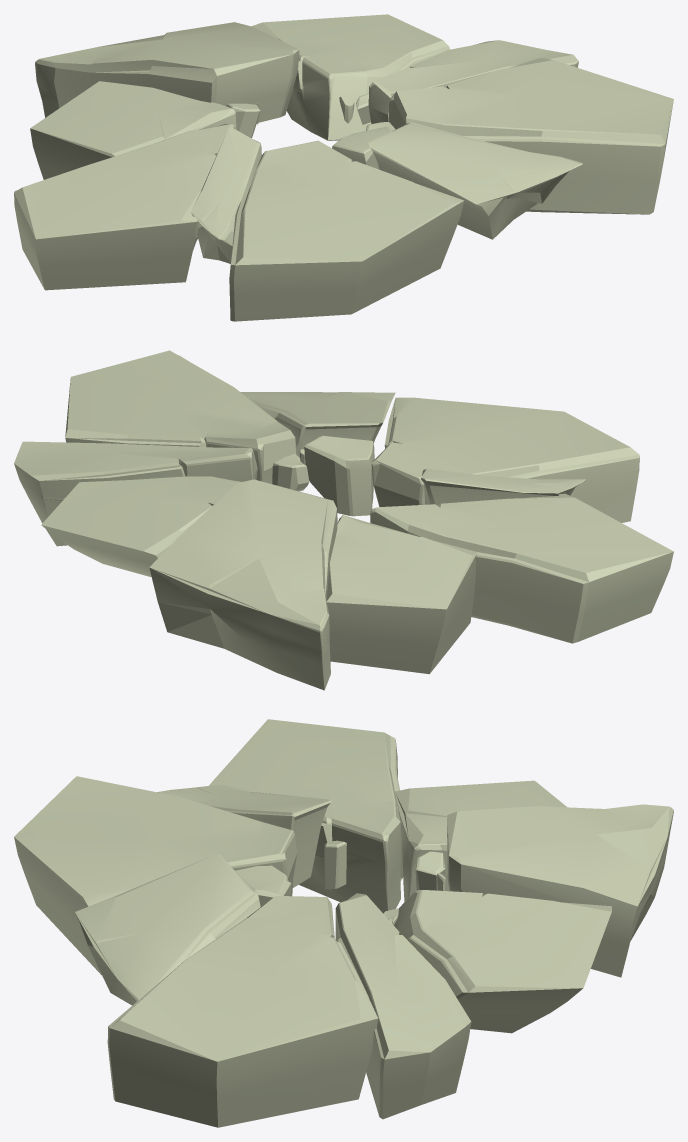
File: Ice_Cracks.FBX
3 renders of one model, top to bottom at view 1: azimuth 30°, elevation 25°; view 2: azimuth 150°, elevation 25°; view 3: azimuth 270°, elevation 25°, orthographic. The views are drawn at different scales.
Parts seen in each view (by area): view 1: Ice_Crack_05, Ice_Crack_07, Ice_Crack_03, Ice_Crack_04, Ice_Crack_09, Ice_Crack_06, Ice_Crack, Ice_Crack_08, Ice_Crack_02, Ica_Frag03, Ica_Frag02; view 2: Ice_Crack_04, Ice_Crack_03, Ice_Crack_05, Ice_Crack, Ice_Crack_07, Ice_Crack_09, Ice_Crack_08, Ice_Crack_06, Ica_Frag03, Ice_Crack_02, Ica_Frag04; view 3: Ice_Crack_07, Ice_Crack_05, Ice_Crack_04, Ice_Crack_09, Ice_Crack_03, Ice_Crack_08, Ice_Crack_06, Ice_Crack, Ice_Crack_02, Ica_Frag03, Ica_Frag01, Ica_Frag02.
Boxes of the visible parts, bbox=[...] form: Ice_Crack_05: bbox=[229, 140, 464, 321]; Ice_Crack_07: bbox=[389, 58, 673, 214]; Ice_Crack_03: bbox=[14, 124, 234, 290]; Ice_Crack_04: bbox=[35, 22, 299, 122]; Ice_Crack_09: bbox=[251, 14, 449, 140]; Ice_Crack_06: bbox=[367, 122, 583, 239]; Ice_Crack: bbox=[30, 81, 236, 179]; Ice_Crack_08: bbox=[368, 40, 578, 123]; Ice_Crack_02: bbox=[191, 126, 261, 263]; Ica_Frag03: bbox=[332, 126, 392, 168]; Ica_Frag02: bbox=[226, 103, 260, 138]; Ice_Crack_04: bbox=[149, 479, 337, 690]; Ice_Crack_03: bbox=[370, 493, 673, 643]; Ice_Crack_05: bbox=[371, 397, 639, 522]; Ice_Crack: bbox=[326, 515, 477, 674]; Ice_Crack_07: bbox=[65, 350, 296, 483]; Ice_Crack_09: bbox=[41, 476, 241, 577]; Ice_Crack_08: bbox=[14, 441, 257, 546]; Ice_Crack_06: bbox=[240, 392, 395, 457]; Ica_Frag03: bbox=[304, 435, 374, 516]; Ice_Crack_02: bbox=[421, 469, 585, 505]; Ica_Frag04: bbox=[272, 453, 309, 491]; Ice_Crack_07: bbox=[107, 896, 378, 1127]; Ice_Crack_05: bbox=[14, 776, 296, 975]; Ice_Crack_04: bbox=[447, 804, 673, 977]; Ice_Crack_09: bbox=[394, 890, 611, 1033]; Ice_Crack_03: bbox=[209, 719, 402, 913]; Ice_Crack_08: bbox=[335, 893, 471, 1119]; Ice_Crack_06: bbox=[75, 854, 260, 1005]; Ice_Crack: bbox=[395, 780, 566, 901]; Ice_Crack_02: bbox=[157, 784, 331, 887]; Ica_Frag03: bbox=[235, 865, 291, 906]; Ica_Frag01: bbox=[323, 840, 346, 889]; Ica_Frag02: bbox=[415, 851, 445, 890].
Size of the model in its own units: 46.81 by 37.37 by 8.39.
